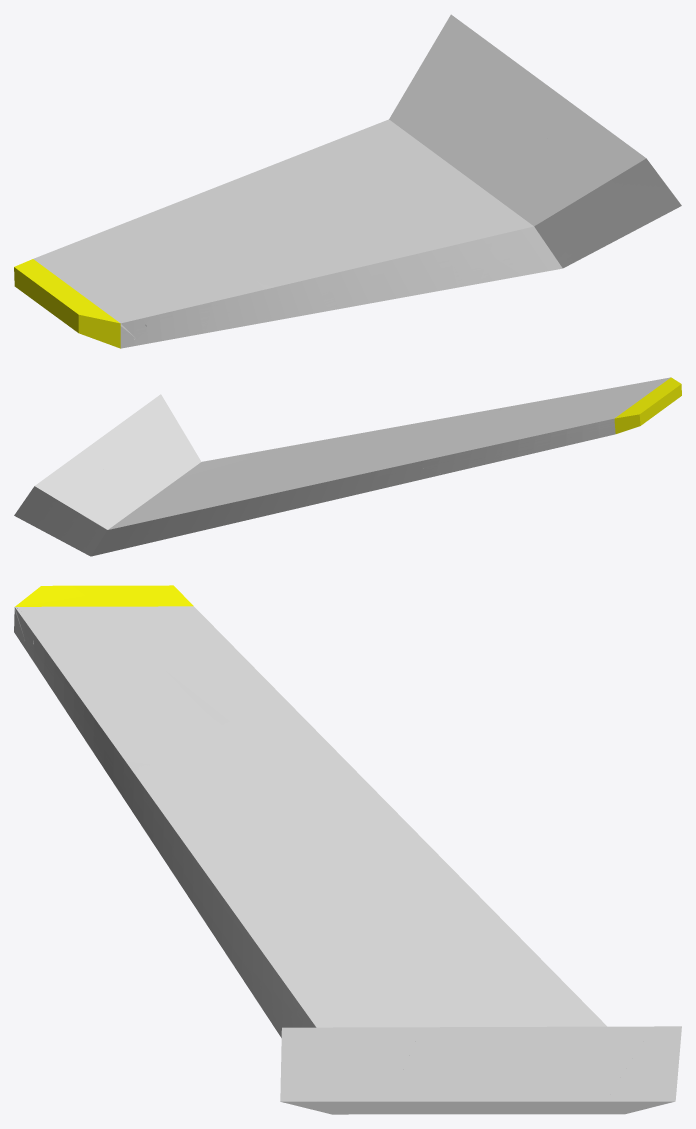
File: SpaceShipLWingBroke.fbx
3 views of the same model, one above another, from view 1: azimuth 30°, elevation 25°; view 2: azimuth 150°, elevation 25°; view 3: azimuth 270°, elevation 25° (orthographic). The views are drawn at different scales.
Parts seen in each view (by area): view 1: LWings, LWings_cell.010, LWings_cell.033, LWings_cell, LWings_cell.044, LWings_cell.040, LWings_cell.059, LWings_cell.038, LWings_cell.012, LWings_cell.004, LWings_cell.041, LWings_cell.009 (+8 smaller); view 2: LWings, LWings_cell.044, LWings_cell.040, LWings_cell.009, LWings_cell.057, LWings_cell.017, LWings_cell.054, LWings_cell.055, LWings_cell.059, LWings_cell.038, LWings_cell, LWings_cell.012 (+5 smaller); view 3: LWings, LWings_cell.004, LWings_cell, LWings_cell.040, LWings_cell.033, LWings_cell.038, LWings_cell.017, LWings_cell.011, LWings_cell.055, LWings_cell.010, LWings_cell.041, LWings_cell.057 (+7 smaller).
Boxes of the visible parts, box(x1,y1,x2,y2) form: LWings: box(14, 14, 681, 348); LWings_cell.010: box(468, 161, 627, 275); LWings_cell.033: box(252, 220, 456, 308); LWings_cell: box(151, 228, 338, 318); LWings_cell.044: box(364, 84, 475, 150); LWings_cell.040: box(198, 160, 467, 239); LWings_cell.059: box(449, 29, 527, 117); LWings_cell.038: box(473, 73, 578, 139); LWings_cell.012: box(479, 132, 556, 181); LWings_cell.004: box(553, 140, 664, 210); LWings_cell.041: box(128, 250, 275, 332); LWings_cell.009: box(290, 128, 486, 215); LWings: box(14, 377, 681, 556); LWings_cell.044: box(71, 483, 152, 554); LWings_cell.040: box(240, 449, 385, 514); LWings_cell.009: box(121, 466, 253, 541); LWings_cell.057: box(493, 412, 600, 462); LWings_cell.017: box(16, 479, 88, 536); LWings_cell.054: box(409, 441, 499, 474); LWings_cell.055: box(370, 443, 442, 491); LWings_cell.059: box(47, 450, 113, 493); LWings_cell.038: box(86, 426, 138, 484); LWings_cell: box(421, 413, 505, 447); LWings_cell.012: box(126, 441, 163, 482); LWings: box(14, 586, 681, 1114); LWings_cell.004: box(280, 1027, 420, 1103); LWings_cell: box(124, 722, 298, 869); LWings_cell.040: box(286, 812, 503, 997); LWings_cell.033: box(171, 813, 324, 996); LWings_cell.038: box(389, 1027, 572, 1110); LWings_cell.017: box(590, 1026, 681, 1104); LWings_cell.011: box(86, 585, 194, 648); LWings_cell.055: box(277, 785, 395, 829); LWings_cell.010: box(291, 996, 391, 1113); LWings_cell.041: box(75, 670, 229, 796); LWings_cell.057: box(160, 624, 291, 728).
Bounding box in the file's own units: 318 × 88.99 × 249.
